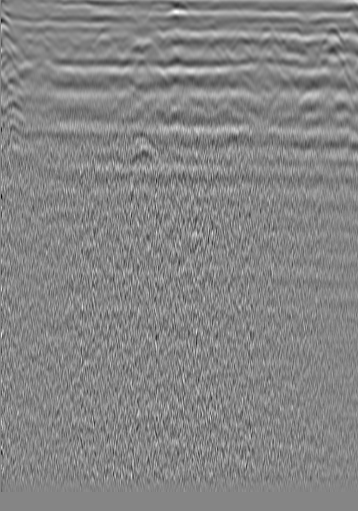가스: (124, 144, 155, 173)
상수: (319, 26, 339, 46)
오수: (32, 29, 52, 49)
우수: (168, 9, 188, 29)
